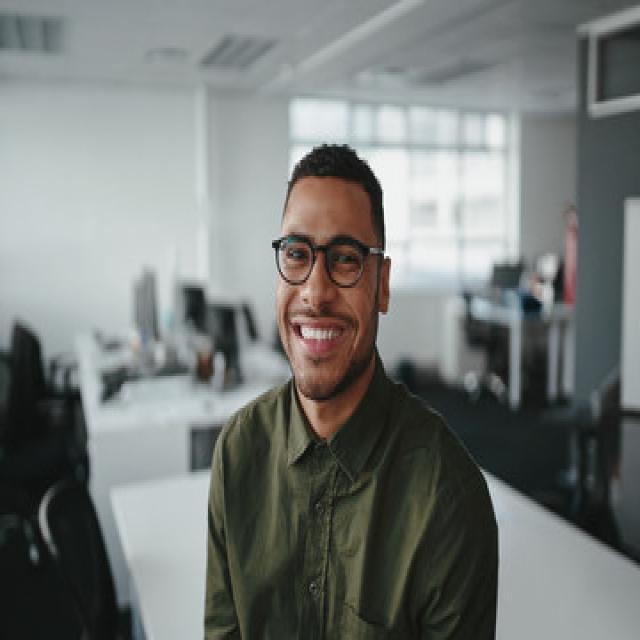person-without-mask: (190, 120, 535, 640)
